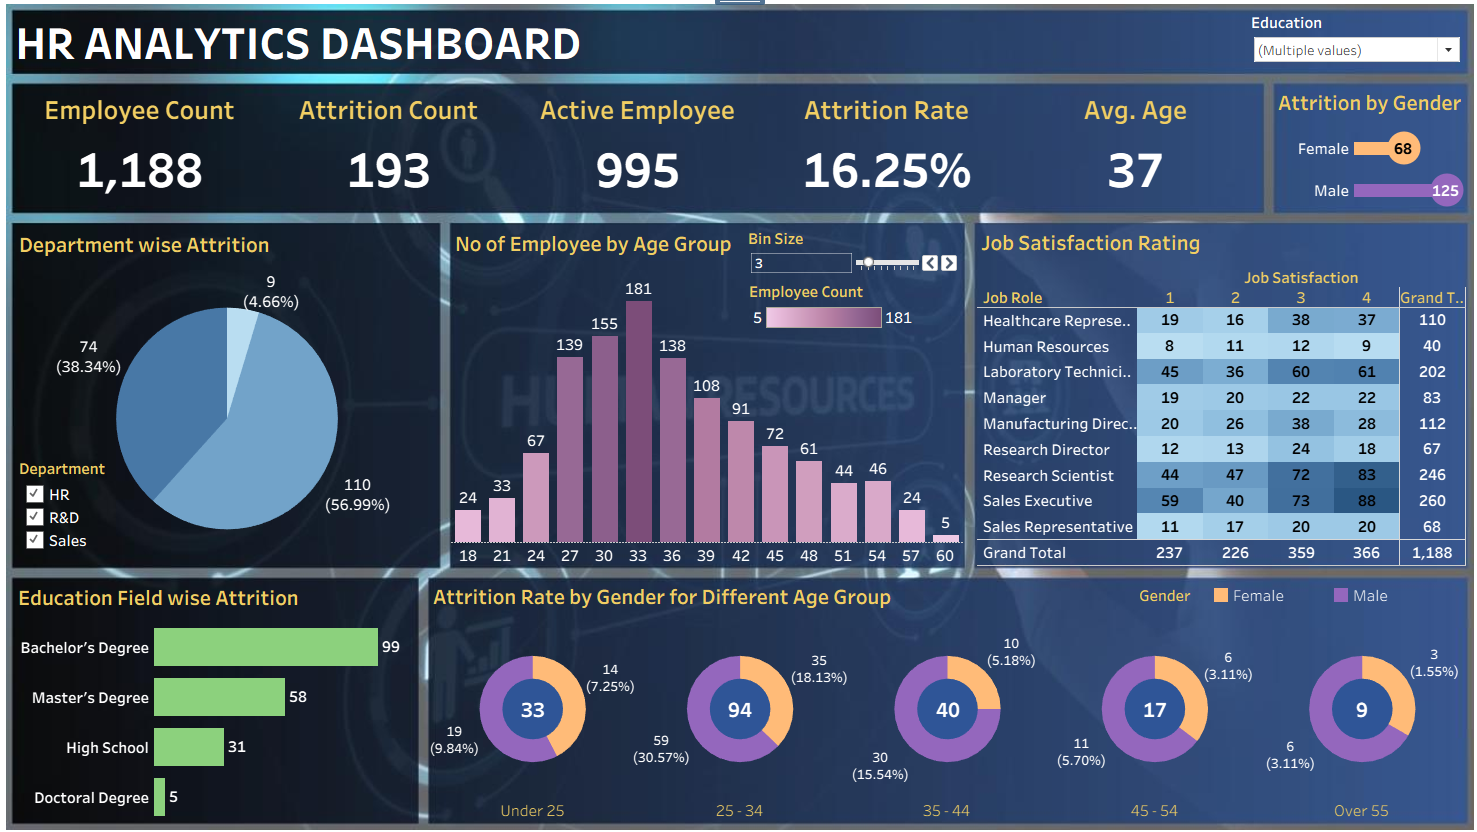

This screenshot's page, from the dashboard's own definition file:
{"tool":"tableau","page":{"name":"HR Analystic Dashboard","canvas":[1580,850],"ordinal":0},"visuals":[{"type":"image","param":"C:/Users/ShriSAI/Downloads/HR background.pptx.jpg","box":[8,8,1564,834]},{"type":"text","box":[62,19,664,60]},{"type":"filter","title":"Department wise Attrition","param":"[federated.1ibjaqq0n3otyf1042byu00nyutn].[none:Education:nk]","box":[1301,20,212,58]},{"type":"worksheet","title":"Attrition by Gender","mark":"Automatic","rows":["Gender"],"cols":["Calculation_1120448808419329","Calculation_1120448808419329"],"box":[1324,92,194,127]},{"type":"worksheet","title":"KPIs","mark":"Automatic","box":[65,94,1245,123]},{"type":"worksheet","title":"Job Satisfaction Rating","mark":"Square","rows":["Job Role"],"cols":["Job Satisfaction"],"box":[1027,232,489,342]},{"type":"worksheet","title":"No of Employee by Age Group","mark":"Automatic","rows":["Employee Count"],"cols":["Age (bin)"],"box":[501,233,512,342]},{"type":"worksheet","title":"Department wise Attrition","mark":"Pie","box":[65,234,424,342]},{"type":"parameter","param":"[Parameters].[Parameter 0942053169971201]","box":[798,236,212,51]},{"type":"legend","title":"No of Employee by Age Group","param":"[federated.1ibjaqq0n3otyf1042byu00nyutn].[sum:Employee Count:qk]","box":[799,289,168,69]},{"type":"filter","title":"Department wise Attrition","param":"[federated.1ibjaqq0n3otyf1042byu00nyutn].[none:Department:nk]","box":[69,466,117,104]},{"type":"worksheet","title":"Attrition Rate by Gender for Different Age Group","mark":"Pie","rows":["Calculation_0965692853678081","Calculation_0965692853678081"],"cols":["CF_age band"],"box":[479,586,1037,244]},{"type":"worksheet","title":"Education Field wise Attrition","mark":"Automatic","rows":["Education"],"cols":["Calculation_1120448808419329"],"box":[64,587,402,243]},{"type":"legend","title":"Attrition Rate by Gender for Different Age Group","param":"[federated.1ibjaqq0n3otyf1042byu00nyutn].[none:Gender:nk]","box":[1189,593,326,33]}]}

Visuals, with their boxes in screenshot pixels (x1, y1, x2, y2):
image: {"x1": 0, "y1": 0, "x2": 1476, "y2": 827}
text: {"x1": 4, "y1": 11, "x2": 662, "y2": 71}
"Department wise Attrition" filter: {"x1": 1231, "y1": 12, "x2": 1442, "y2": 70}
"Attrition by Gender" worksheet: {"x1": 1254, "y1": 83, "x2": 1446, "y2": 209}
"KPIs" worksheet: {"x1": 7, "y1": 85, "x2": 1240, "y2": 207}
"Job Satisfaction Rating" worksheet (Square marks): {"x1": 960, "y1": 222, "x2": 1445, "y2": 561}
"No of Employee by Age Group" worksheet: {"x1": 439, "y1": 223, "x2": 946, "y2": 562}
"Department wise Attrition" worksheet (Pie marks): {"x1": 7, "y1": 224, "x2": 427, "y2": 563}
parameter: {"x1": 733, "y1": 226, "x2": 943, "y2": 277}
"No of Employee by Age Group" legend: {"x1": 734, "y1": 279, "x2": 901, "y2": 347}
"Department wise Attrition" filter: {"x1": 11, "y1": 454, "x2": 127, "y2": 557}
"Attrition Rate by Gender for Different Age Group" worksheet (Pie marks): {"x1": 417, "y1": 573, "x2": 1445, "y2": 815}
"Education Field wise Attrition" worksheet: {"x1": 6, "y1": 574, "x2": 404, "y2": 815}
"Attrition Rate by Gender for Different Age Group" legend: {"x1": 1120, "y1": 580, "x2": 1444, "y2": 613}
